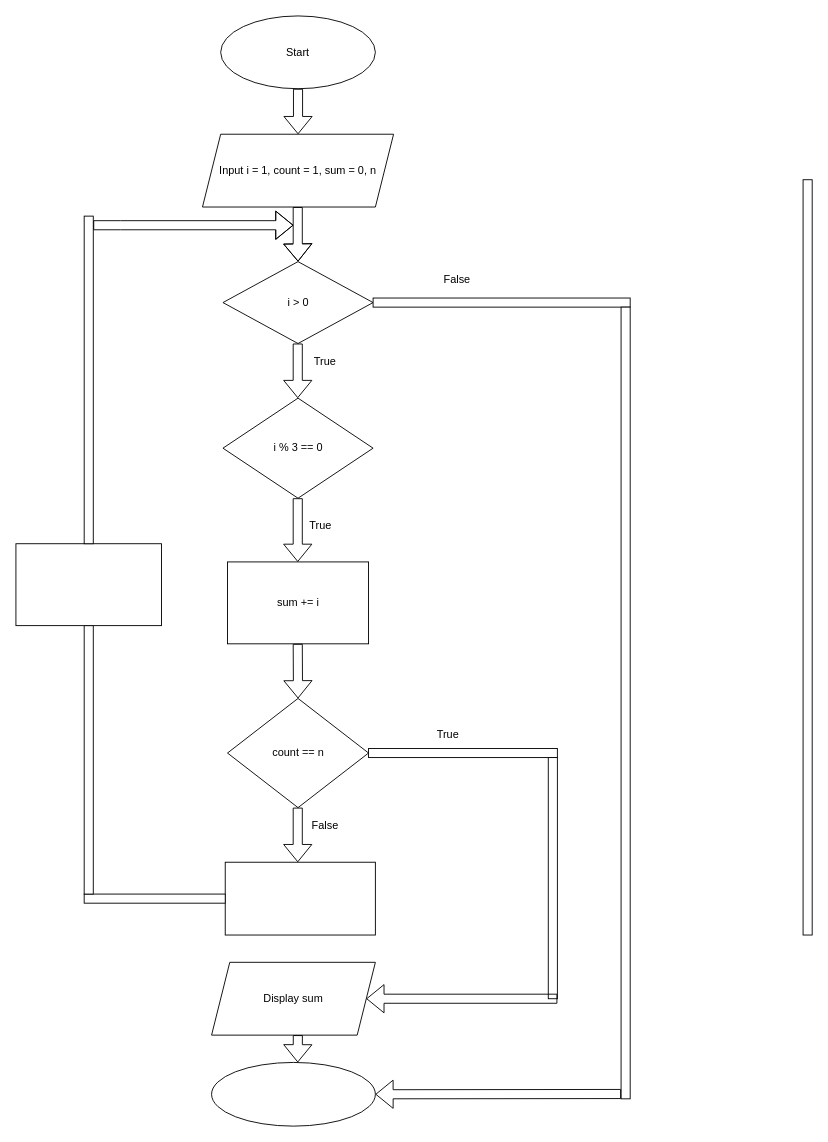
The diagram is 828 pixels wide and 1142 high, and some of its shapes have lost their labels. The shapes that lost their labels are listed below. From the top down, each one's centre as x and y in pixels, then its label:
At (88,584): "i++;".
At (299,898): "count++;".
At (293,1094): "Stop".
